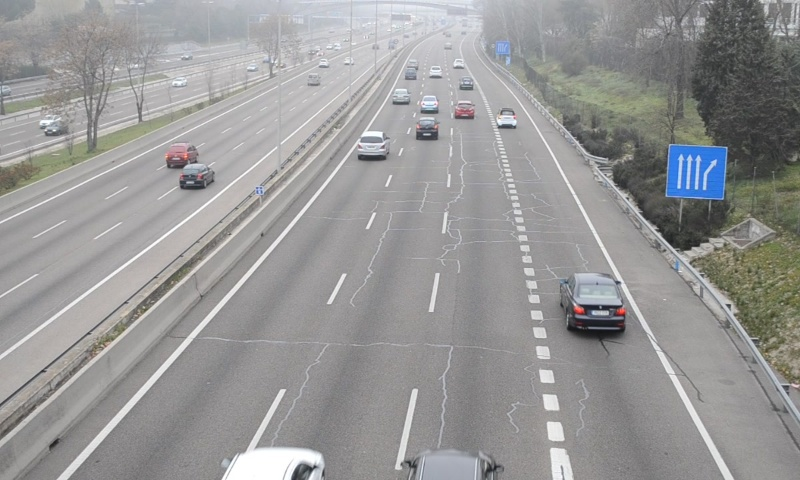car: (558, 273, 628, 328), (356, 130, 390, 156), (414, 117, 439, 142), (496, 106, 518, 129), (454, 100, 476, 121), (419, 94, 439, 114), (390, 88, 411, 105), (458, 76, 474, 91)
